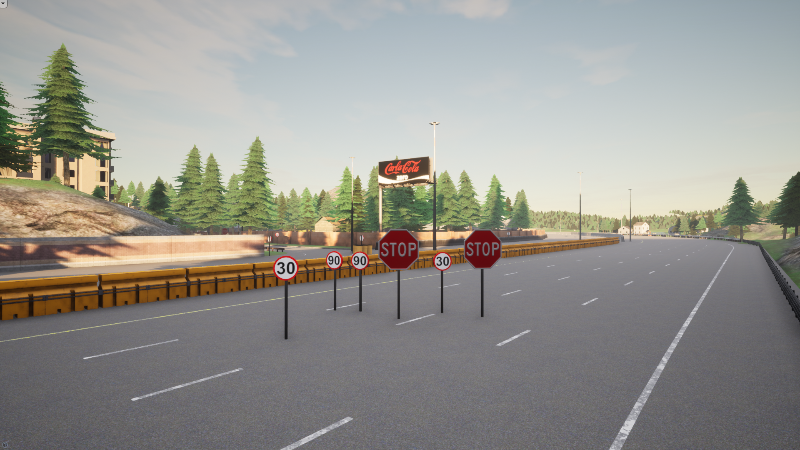fast: (350, 251, 371, 270), (326, 251, 343, 270)
slow: (273, 256, 297, 281), (433, 252, 452, 271)
stop: (378, 229, 418, 270), (464, 230, 501, 269)
